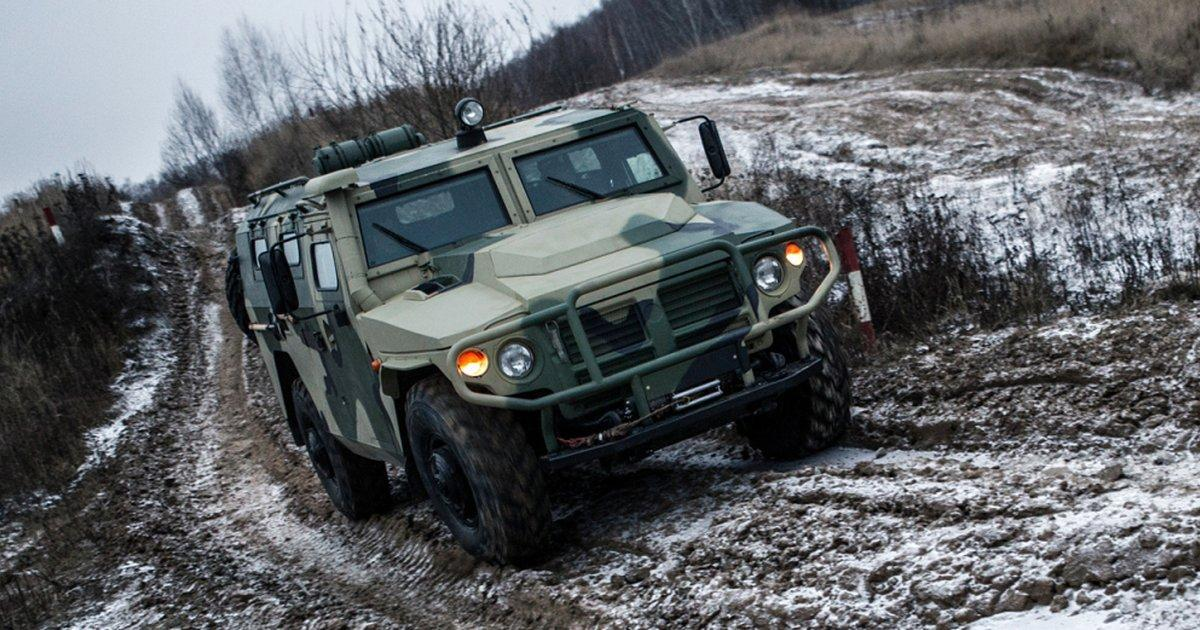armored_car: (225, 96, 842, 569)
